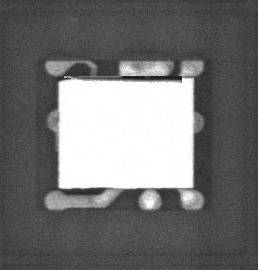DIE_BROKEN: (73, 74, 185, 84)
